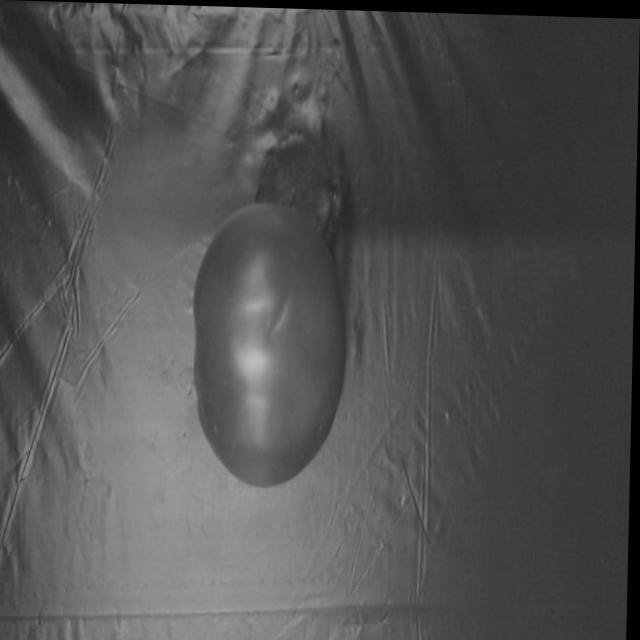kirmizi: (194, 203, 357, 503)
